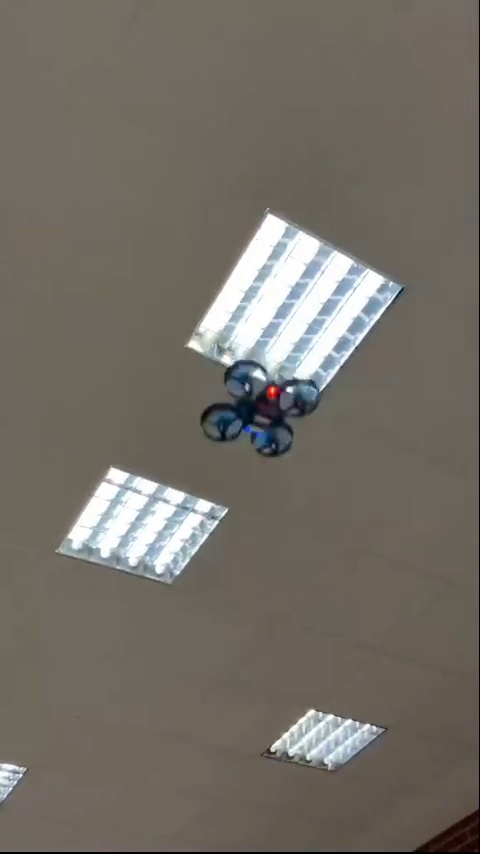drone: (206, 364, 314, 456)
